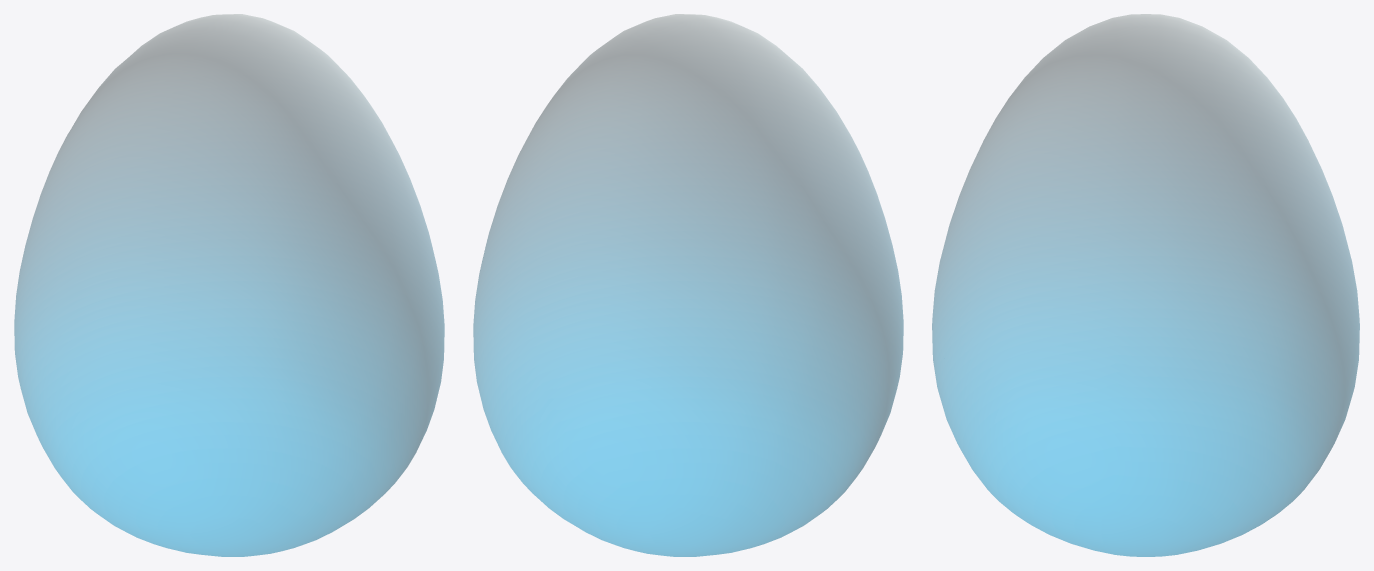
File: EggShape.glb
3 renders of one model, left to right at view 1: azimuth 30°, elevation 25°; view 2: azimuth 150°, elevation 25°; view 3: azimuth 270°, elevation 25°, orthographic.
Parts seen in each view (by area): view 1: Egg; view 2: Egg; view 3: Egg.
Boxes of the visible parts, left/top/right/bottom form: Egg: left=14, top=14, right=444, bottom=556; Egg: left=473, top=14, right=903, bottom=556; Egg: left=932, top=14, right=1359, bottom=556.
Size of the model in its own units: 2.52 by 3.32 by 2.52.
Materials: 1 (1 with a texture image).
